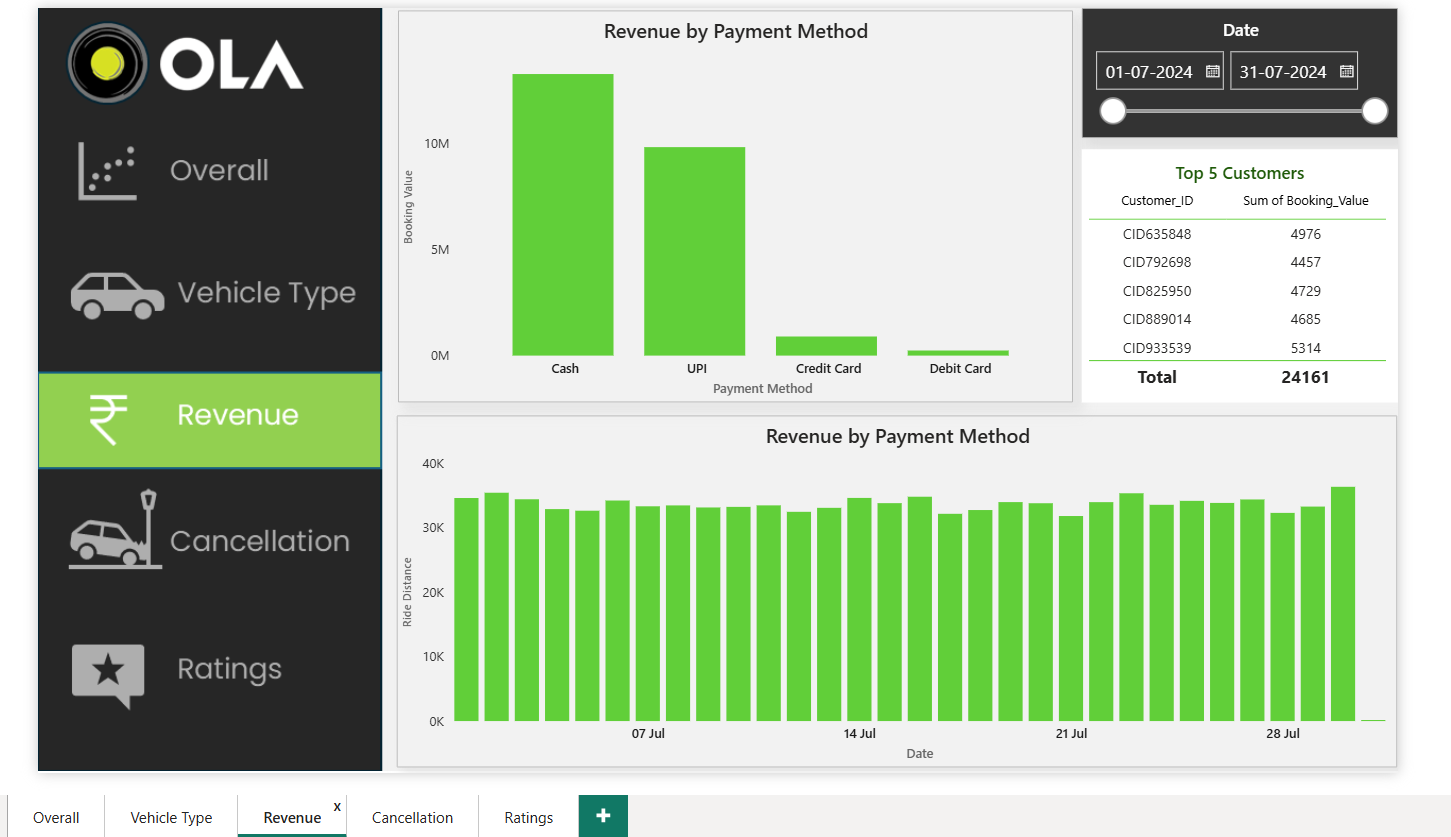

The dashboard page shown, as its layout file describes it:
{"tool":"powerbi","page":{"name":"Revenue","canvas":[1280,720],"ordinal":2},"visuals":[{"type":"actionButton","box":[0,219.6,324.5,94.1],"z":0},{"type":"actionButton","box":[0,454.8,324.5,94.1],"z":1000},{"type":"actionButton","box":[0,576.7,324.5,94.1],"z":2000},{"type":"actionButton","box":[1.2,106.2,324.5,94.1],"z":3000},{"type":"columnChart","title":"Revenue by Payment Method","fields":{"Category":["Ola_Data.Payment_Method"],"Y":["Sum(Ola_Data.Booking_Value)"]},"box":[338.4,2.3,634.9,368.6],"z":4000},{"type":"columnChart","title":"Revenue by Payment Method","fields":{"Y":["Sum(Ola_Data.Ride_Distance)"],"Category":["Ola_Data.Date"]},"box":[338.1,383.7,941.9,331.4],"z":5000},{"type":"slicer","title":"Date","fields":{"Values":["Ola_Data.Date"]},"box":[982.6,0,297.7,122.1],"z":6000},{"type":"tableEx","title":"Top 5 Customers","fields":{"Values":["Ola_Data.Customer_ID","Sum(Ola_Data.Booking_Value)"]},"box":[982.6,132.6,297.7,238.4],"z":7000}]}

Visuals, with their boxes in screenshot pixels (x1, y1, x2, y2), scaled from the page's 1280x720 canvas onto the 1451x837 screenshot:
actionButton: bbox=[0, 255, 368, 365]
actionButton: bbox=[0, 529, 368, 638]
actionButton: bbox=[0, 670, 368, 780]
actionButton: bbox=[1, 123, 369, 233]
"Revenue by Payment Method" columnChart: bbox=[384, 3, 1103, 431]
"Revenue by Payment Method" columnChart: bbox=[383, 446, 1450, 831]
"Date" slicer: bbox=[1114, 0, 1450, 142]
"Top 5 Customers" tableEx: bbox=[1114, 154, 1450, 431]
